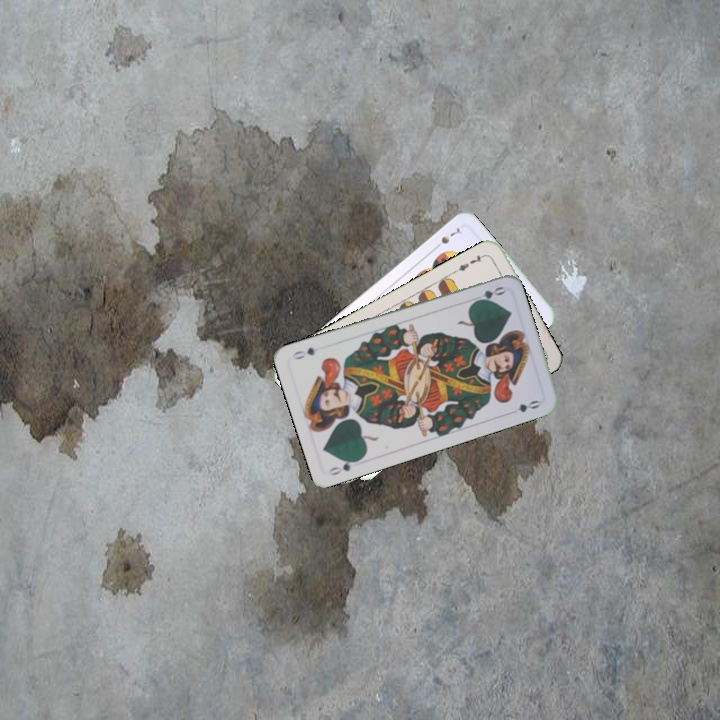E7: (451, 250, 489, 275)
GO: (467, 282, 507, 307), (325, 454, 364, 478)
S7: (430, 223, 463, 252)
